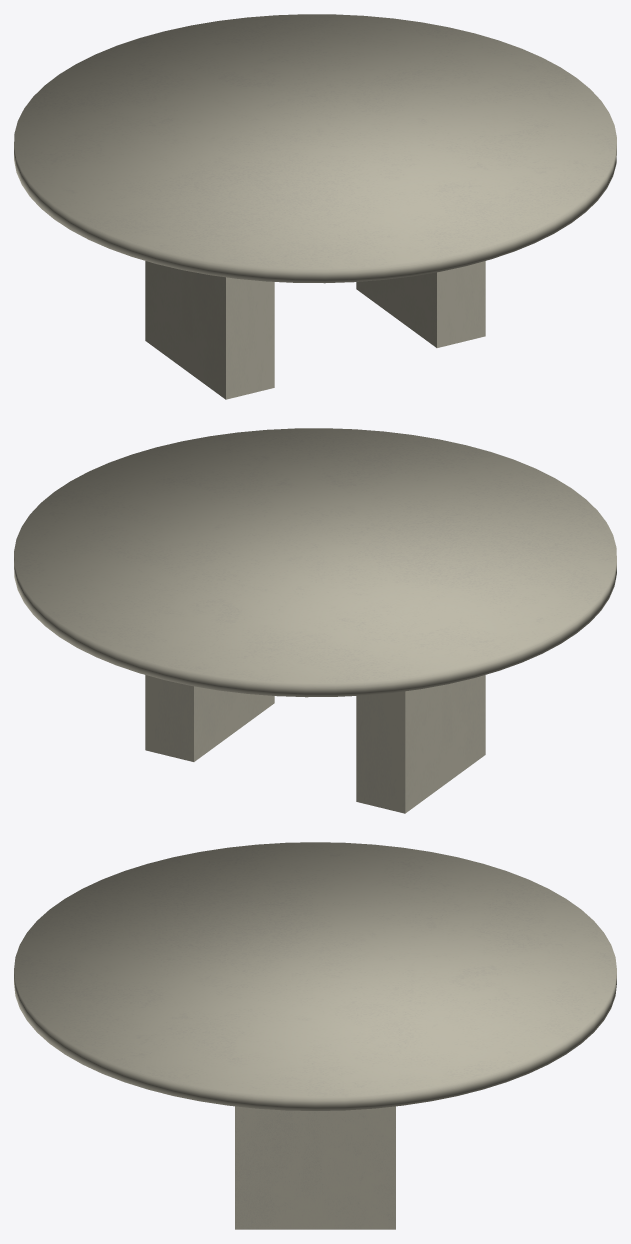
The model's file is silk_oval_standard_ridge.glb.
3 views of the same model, one above another, from view 1: azimuth 30°, elevation 25°; view 2: azimuth 150°, elevation 25°; view 3: azimuth 270°, elevation 25° (orthographic).
Parts seen in each view (by area): view 1: silk_ovalstandard_ridge; view 2: silk_ovalstandard_ridge; view 3: silk_ovalstandard_ridge.
Part boxes in pixels (<box>): silk_ovalstandard_ridge: <box>14,14,616,399</box>; silk_ovalstandard_ridge: <box>14,428,616,813</box>; silk_ovalstandard_ridge: <box>14,842,616,1229</box>.
Size of the model in its own units: 6.97 by 2.51 by 6.97.
Materials: 1 (1 with a texture image).
